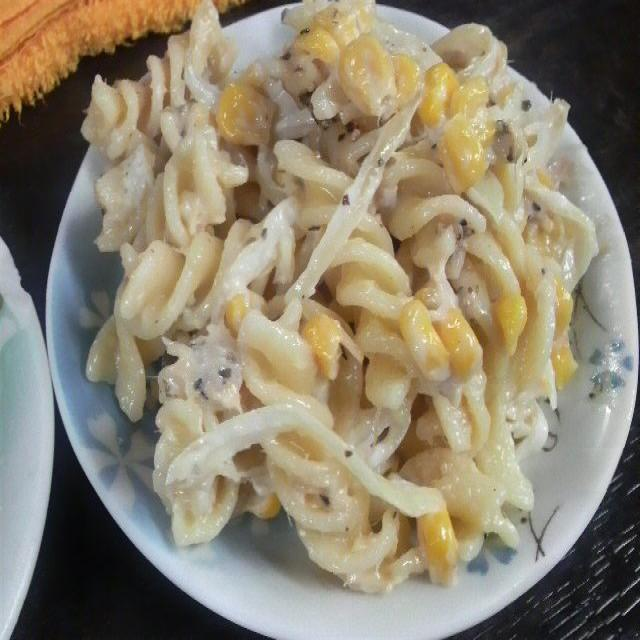蔬菜料理: (40, 0, 640, 640)
